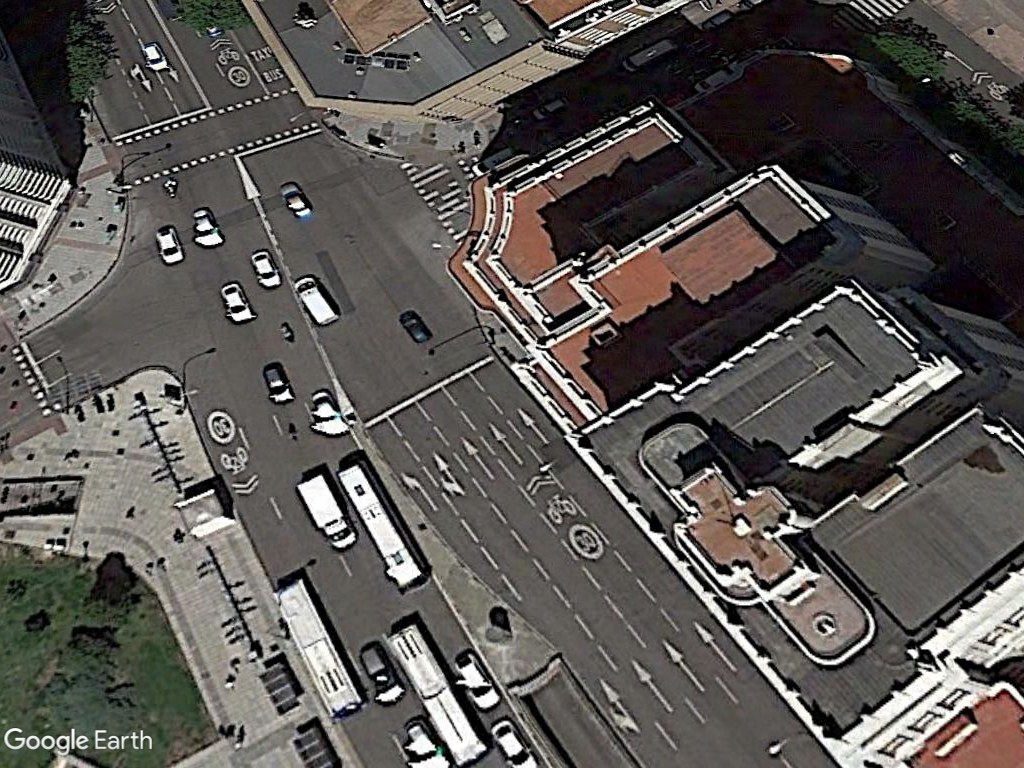bus: (267, 576, 364, 721), (333, 453, 430, 594)
car: (451, 646, 504, 714), (487, 717, 541, 768), (215, 280, 257, 326), (152, 224, 188, 268), (259, 365, 297, 406), (246, 249, 283, 289)
truck: (291, 474, 357, 556)
van: (288, 273, 340, 329)
